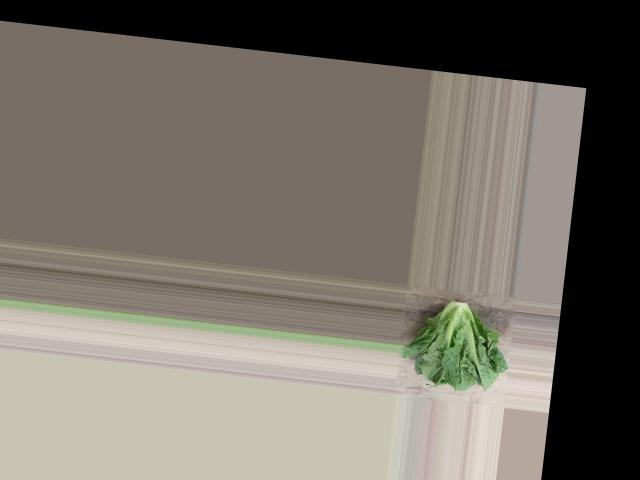lettuce: (398, 288, 512, 398)
